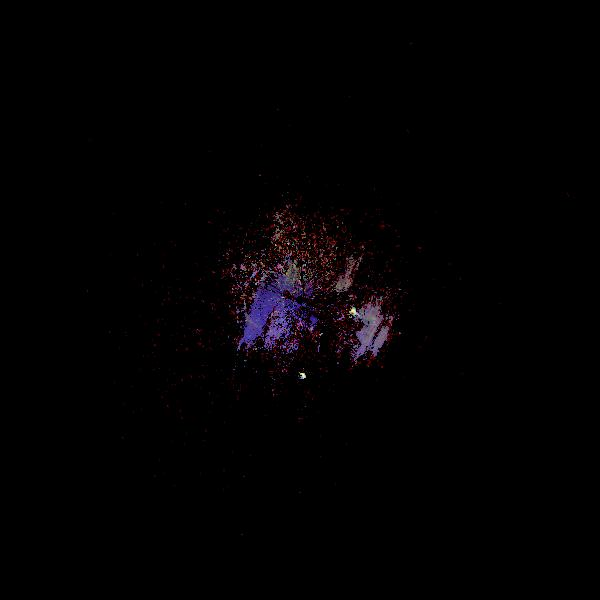roost: (349, 307, 361, 319), (296, 370, 308, 382)
